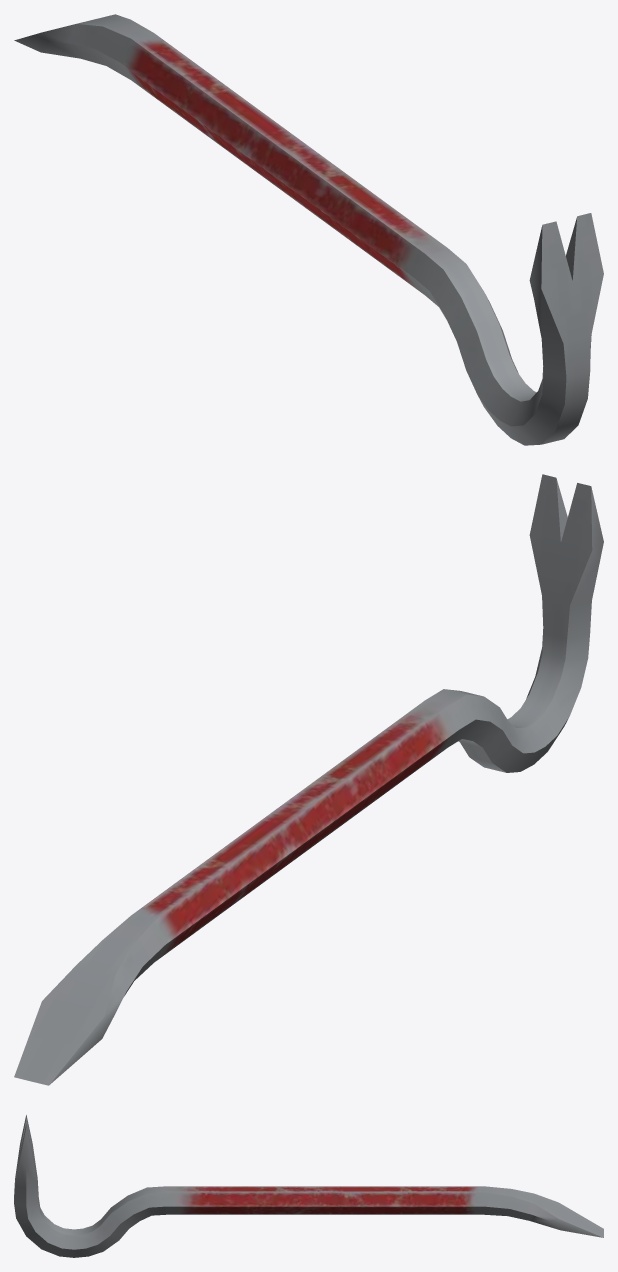
Rendered from crowbar.glb.
3 renders of one model, top to bottom at view 1: azimuth 30°, elevation 25°; view 2: azimuth 150°, elevation 25°; view 3: azimuth 270°, elevation 25°, orthographic. The views are drawn at different scales.
Parts seen in each view (by area): view 1: defaultMaterial; view 2: defaultMaterial; view 3: defaultMaterial.
Part boxes in pixels (left/top/right/bottom): defaultMaterial: left=14, top=14, right=603, bottom=445; defaultMaterial: left=14, top=474, right=603, bottom=1085; defaultMaterial: left=14, top=1115, right=603, bottom=1257.
Size of the model in its own units: 0.0431 by 0.1508 by 0.6.
1 material, 1 textured.
